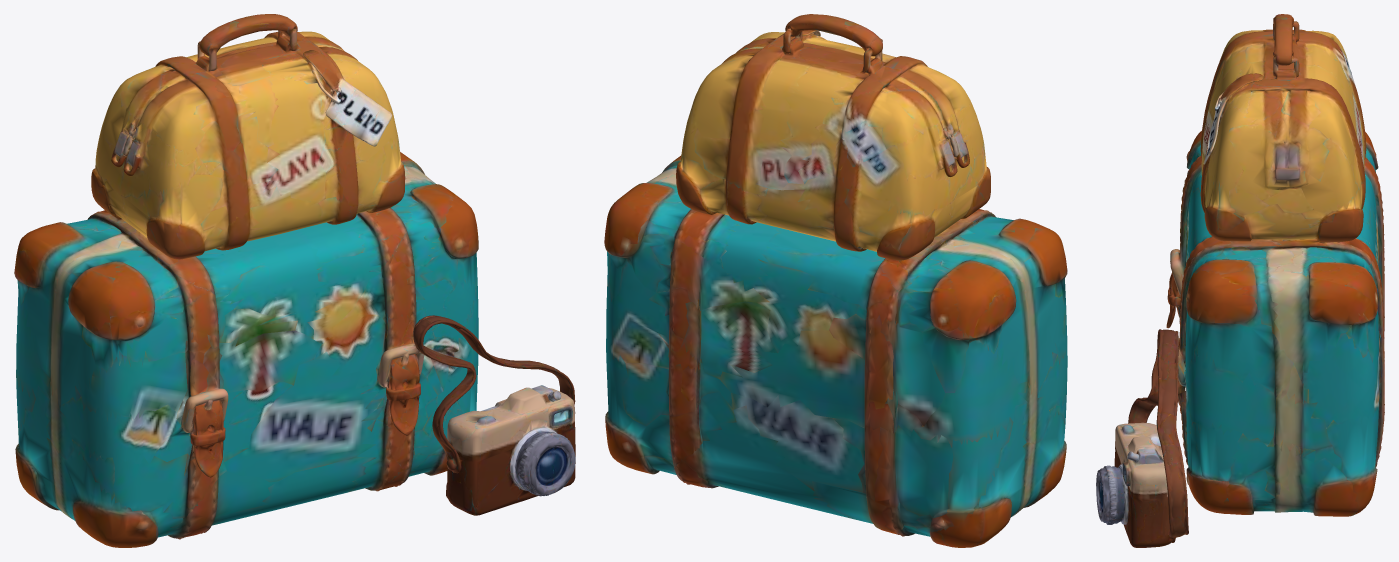
The model's file is maleta.glb.
3 views of the same model, side by side, from view 1: azimuth 30°, elevation 25°; view 2: azimuth 150°, elevation 25°; view 3: azimuth 270°, elevation 25° (orthographic). The views are drawn at different scales.
Size of the model in its own units: 1.47 by 1.42 by 0.8828.
1 material, 1 textured.
